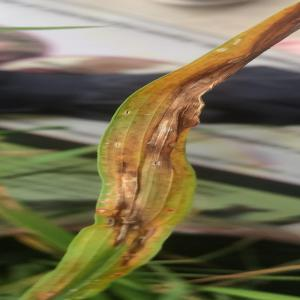Rice_Blast: (148, 74, 227, 162), (108, 213, 166, 260), (88, 194, 143, 240)
